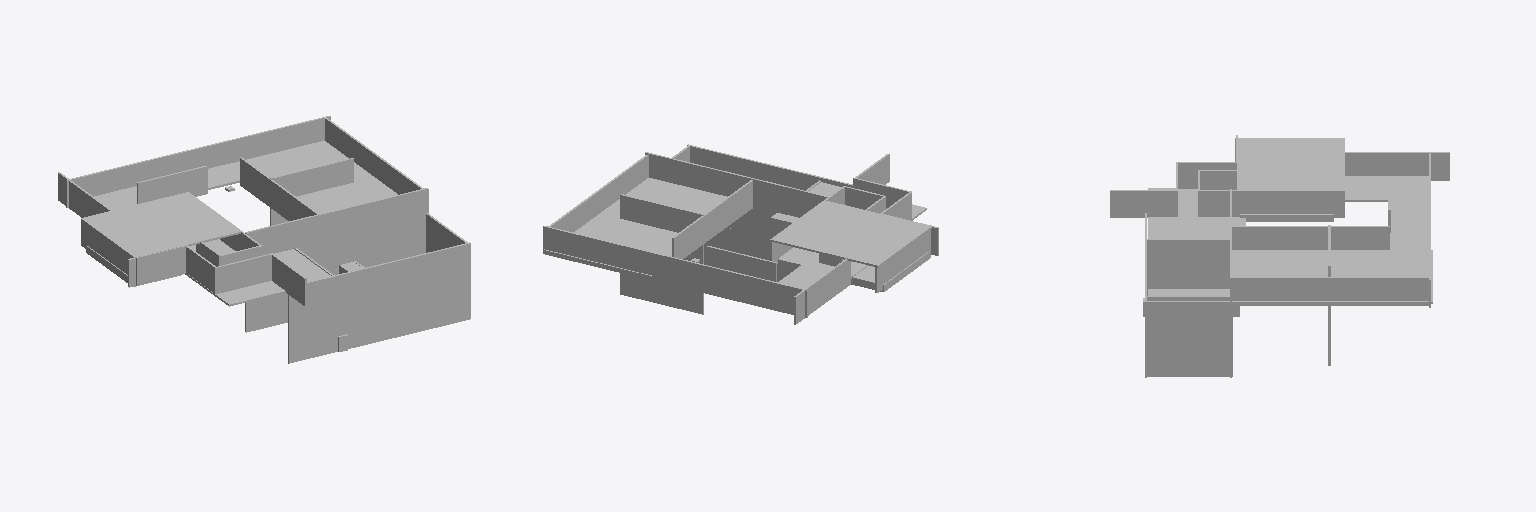
The picture shows the model from 3 angles: view 1: azimuth 30°, elevation 25°; view 2: azimuth 150°, elevation 25°; view 3: azimuth 270°, elevation 25°; orthographic projection.
Parts seen in each view (by area): view 1: Cube.007_Cube.066, Cube.006_Cube.065, Cube.018_Cube.078, Cube.027_Cube.087, Cube.030_Cube.090, Cube.033_Cube.093, Cube.034_Cube.001, Cube.032_Cube.092, Cube.011_Cube.071, Cube.029_Cube.089, Cube.020_Cube.080, Cube.012_Cube.072 (+6 smaller); view 2: Cube.027_Cube.087, Cube.006_Cube.065, Cube.018_Cube.078, Cube.030_Cube.090, Cube.034_Cube.001, Cube.007_Cube.066, Cube.032_Cube.092, Cube.033_Cube.093, Cube.026_Cube.086, Cube.029_Cube.089, Cube.019_Cube.079, Cube.025_Cube.085 (+6 smaller); view 3: Cube.031_Cube.091, Cube.030_Cube.090, Cube.018_Cube.078, Cube.033_Cube.093, Cube.008_Cube.067, Cube.032_Cube.092, Cube.016_Cube.076, Cube.026_Cube.086, Cube.011_Cube.071, Cube.025_Cube.085, Cube.028_Cube.088, Cube.017_Cube.077 (+4 smaller).
Part boxes in pixels (bbox=[...]): Cube.007_Cube.066: bbox=[288, 242, 470, 363]; Cube.006_Cube.065: bbox=[245, 188, 428, 332]; Cube.018_Cube.078: bbox=[81, 192, 241, 257]; Cube.027_Cube.087: bbox=[66, 116, 330, 207]; Cube.030_Cube.090: bbox=[226, 141, 397, 213]; Cube.033_Cube.093: bbox=[325, 117, 423, 194]; Cube.034_Cube.001: bbox=[270, 158, 353, 225]; Cube.032_Cube.092: bbox=[240, 157, 318, 220]; Cube.011_Cube.071: bbox=[185, 249, 330, 306]; Cube.029_Cube.089: bbox=[137, 166, 207, 203]; Cube.020_Cube.080: bbox=[128, 245, 186, 287]; Cube.012_Cube.072: bbox=[216, 253, 273, 293]; Cube.027_Cube.087: bbox=[543, 226, 807, 317]; Cube.006_Cube.065: bbox=[645, 152, 827, 280]; Cube.018_Cube.078: bbox=[771, 200, 931, 267]; Cube.030_Cube.090: bbox=[543, 178, 726, 277]; Cube.034_Cube.001: bbox=[620, 194, 703, 314]; Cube.007_Cube.066: bbox=[687, 144, 852, 190]; Cube.032_Cube.092: bbox=[672, 180, 752, 258]; Cube.033_Cube.093: bbox=[548, 155, 648, 232]; Cube.026_Cube.086: bbox=[794, 258, 850, 324]; Cube.029_Cube.089: bbox=[706, 246, 776, 281]; Cube.019_Cube.079: bbox=[875, 225, 931, 292]; Cube.025_Cube.085: bbox=[778, 255, 864, 288]; Cube.031_Cube.091: bbox=[1147, 301, 1232, 376]; Cube.030_Cube.090: bbox=[1231, 250, 1432, 303]; Cube.018_Cube.078: bbox=[1237, 138, 1344, 189]; Cube.033_Cube.093: bbox=[1232, 277, 1430, 305]; Cube.008_Cube.067: bbox=[1147, 239, 1229, 295]; Cube.032_Cube.092: bbox=[1232, 226, 1389, 249]; Cube.016_Cube.076: bbox=[1199, 190, 1344, 217]; Cube.026_Cube.086: bbox=[1345, 152, 1449, 180]; Cube.011_Cube.071: bbox=[1148, 188, 1245, 238]; Cube.025_Cube.085: bbox=[1345, 176, 1428, 201]; Cube.028_Cube.088: bbox=[1389, 200, 1428, 250]; Cube.017_Cube.077: bbox=[1110, 190, 1176, 217].
Size of the model in its own units: 167 by 53.44 by 165.